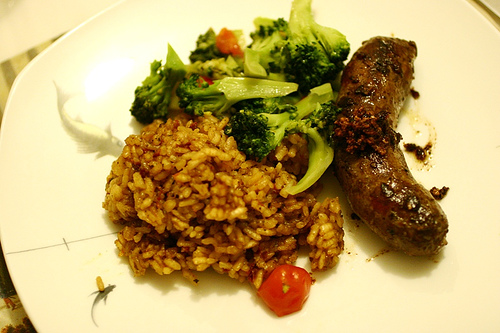broccoli: (232, 82, 335, 196), (228, 82, 335, 160), (266, 1, 354, 89), (177, 73, 302, 114), (129, 42, 196, 115), (191, 28, 231, 61)
